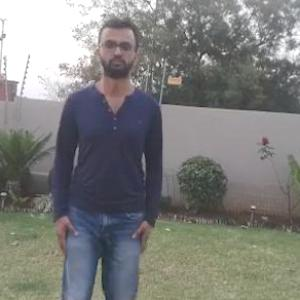follow: (64, 50, 157, 299)
